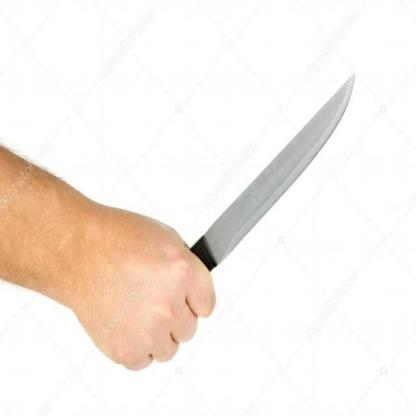Knife: (132, 67, 363, 369)
